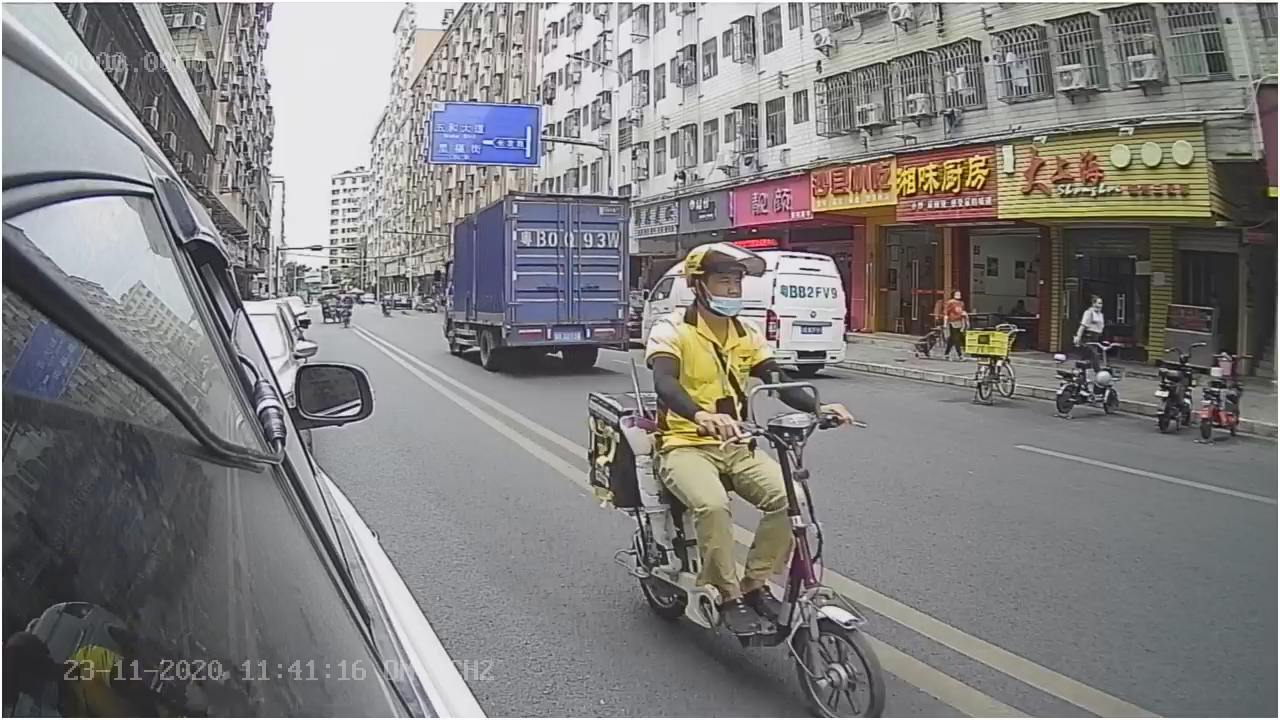person: (644, 242, 796, 380)
